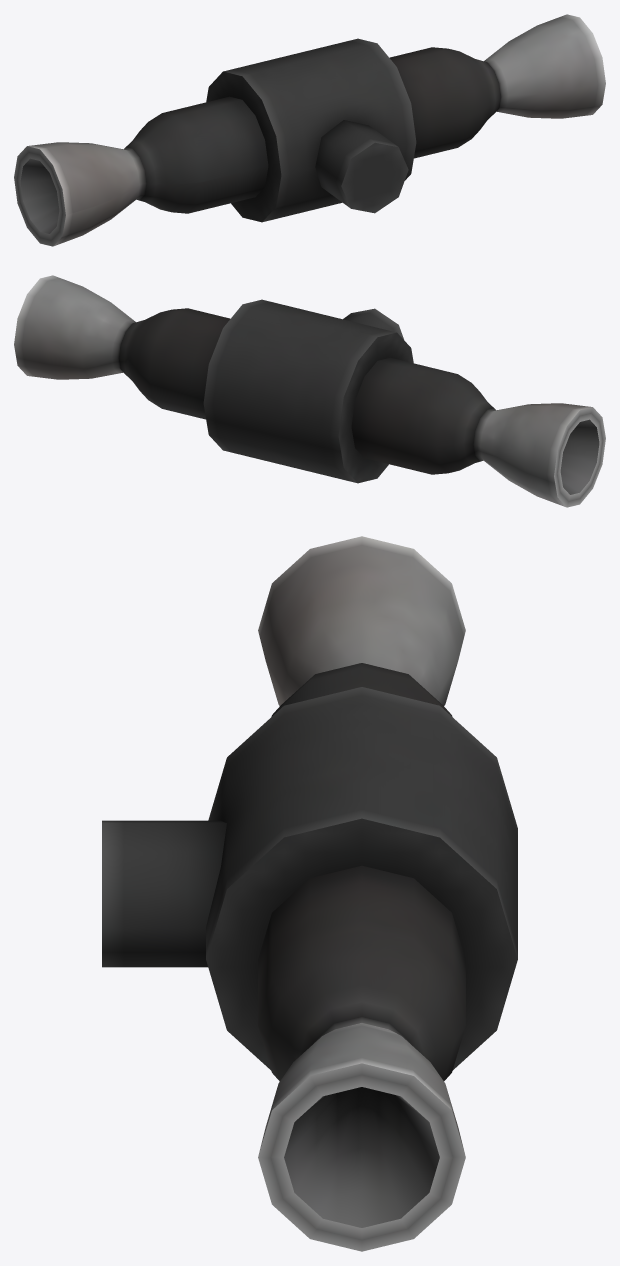
Rendered from rcs_2.obj.
3 renders of one model, top to bottom at view 1: azimuth 30°, elevation 25°; view 2: azimuth 150°, elevation 25°; view 3: azimuth 270°, elevation 25°, orthographic. The views are drawn at different scales.
Visible parts, largest first — view 1: 1; view 2: 1; view 3: 1.
Part boxes in pixels (bbox=[...]): 1: bbox=[14, 14, 605, 246]; 1: bbox=[14, 275, 605, 507]; 1: bbox=[102, 536, 517, 1251].
Size of the model in its own units: 0.3 by 0.075 by 0.1.
Materials: 1 (1 with a texture image).
